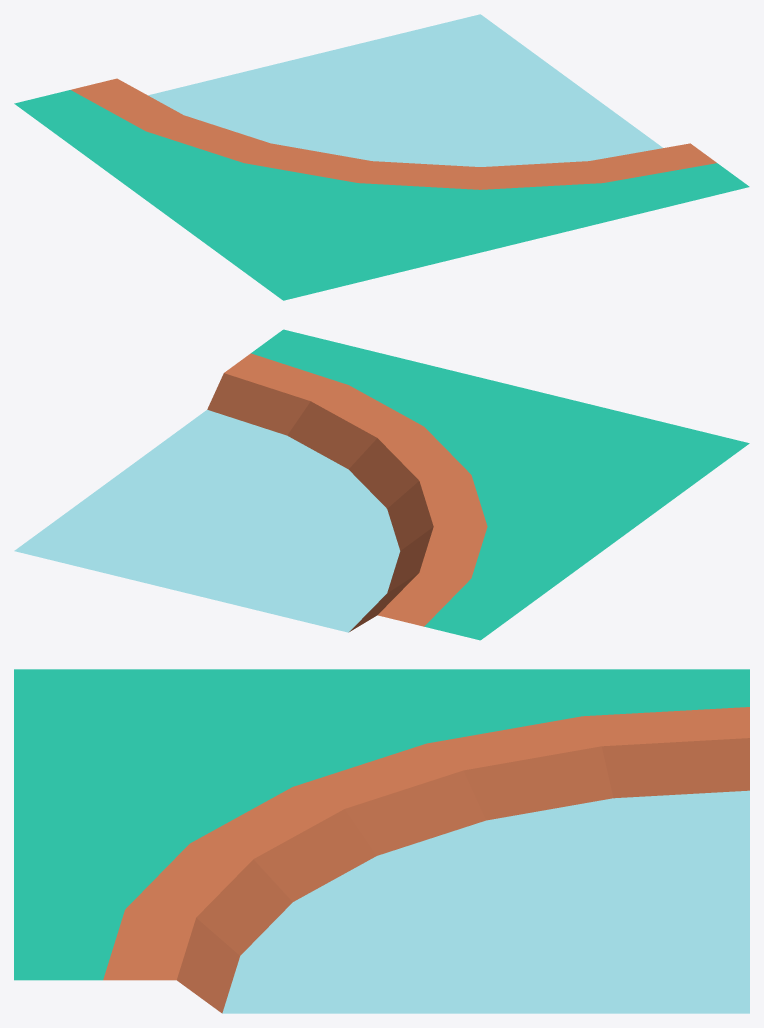
File: ground_riverCorner.dae
3 views of the same model, one above another, from view 1: azimuth 30°, elevation 25°; view 2: azimuth 150°, elevation 25°; view 3: azimuth 270°, elevation 25° (orthographic). The views are drawn at different scales.
Visible parts, largest first — view 1: ground_riverCorner; view 2: ground_riverCorner; view 3: ground_riverCorner.
Part boxes in pixels (<box>): ground_riverCorner: <box>14,14,749,300</box>; ground_riverCorner: <box>14,329,749,640</box>; ground_riverCorner: <box>14,669,749,1013</box>.
Size of the model in its own units: 1 by 0.05 by 1.
